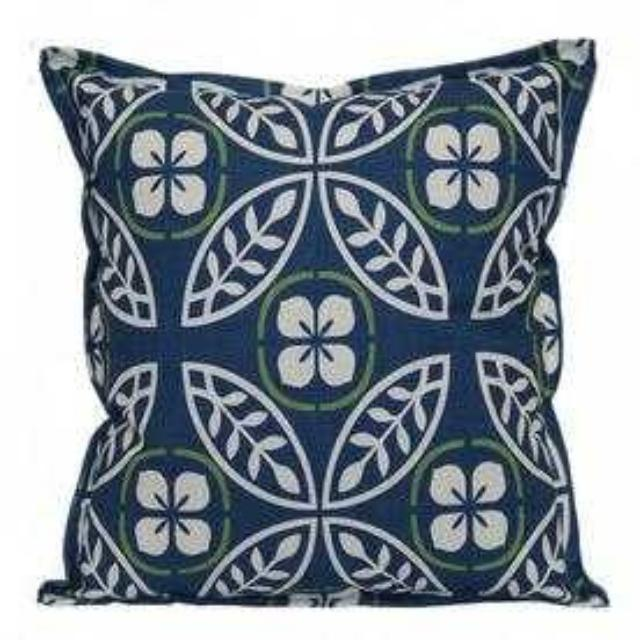pillow: (35, 35, 610, 607)
